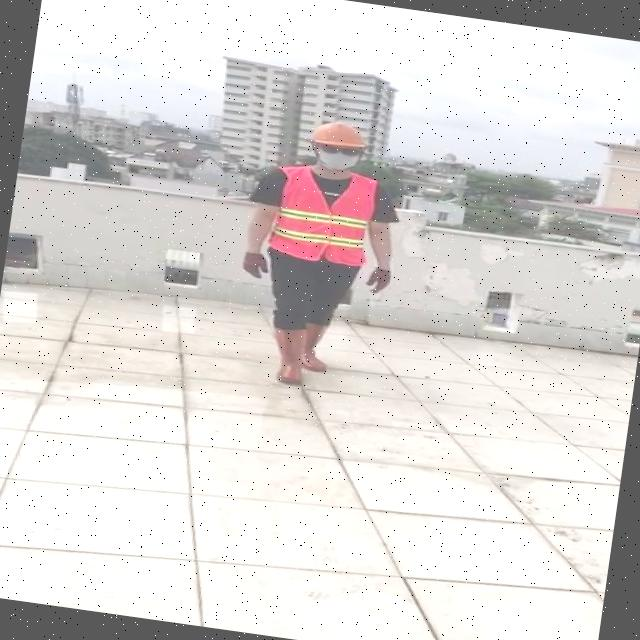boots: (266, 324, 312, 386), (298, 321, 338, 373)
helmet: (308, 117, 370, 151)
vest: (272, 162, 376, 268)
